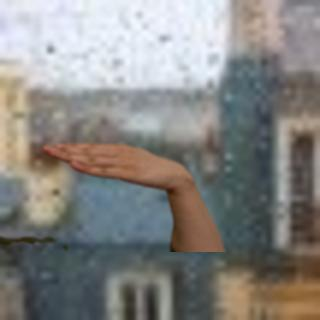WAIT: (36, 135, 194, 195)
